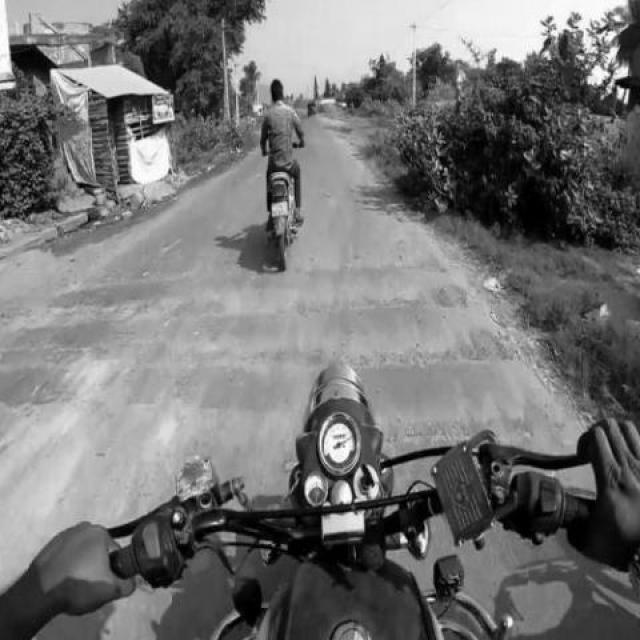Unmarked Bump: (1, 301, 494, 358), (1, 356, 310, 414), (48, 267, 470, 306), (367, 358, 546, 416)
